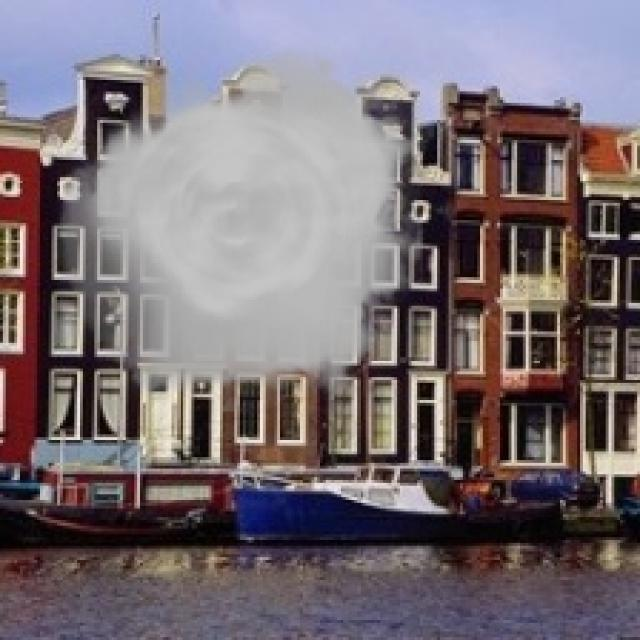Smoke: (57, 37, 423, 412)
